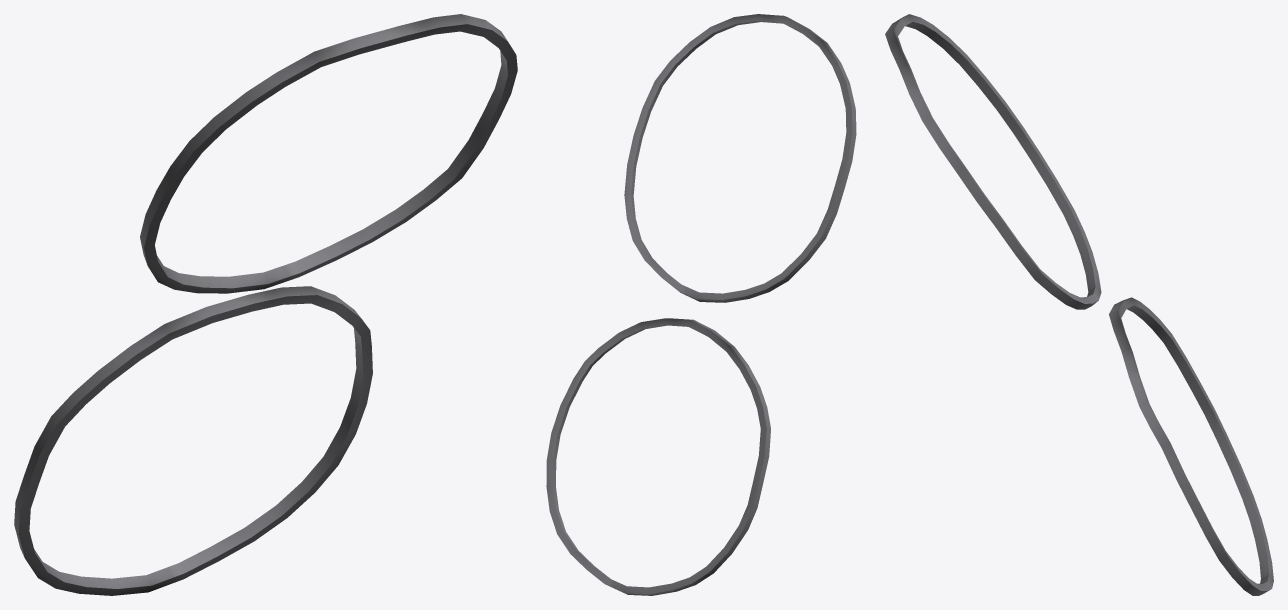
The model's file is baiquan002.FBX.
3 views of the same model, side by side, from view 1: azimuth 30°, elevation 25°; view 2: azimuth 150°, elevation 25°; view 3: azimuth 270°, elevation 25° (orthographic). The views are drawn at different scales.
Visible parts, largest first — view 1: baiquan002; view 2: baiquan002; view 3: baiquan002.
Part boxes in pixels (<box>): baiquan002: <box>14,14,517,595</box>; baiquan002: <box>546,14,856,595</box>; baiquan002: <box>885,14,1273,595</box>.
Bounding box in the file's own units: 31.54 × 67 × 42.47.
